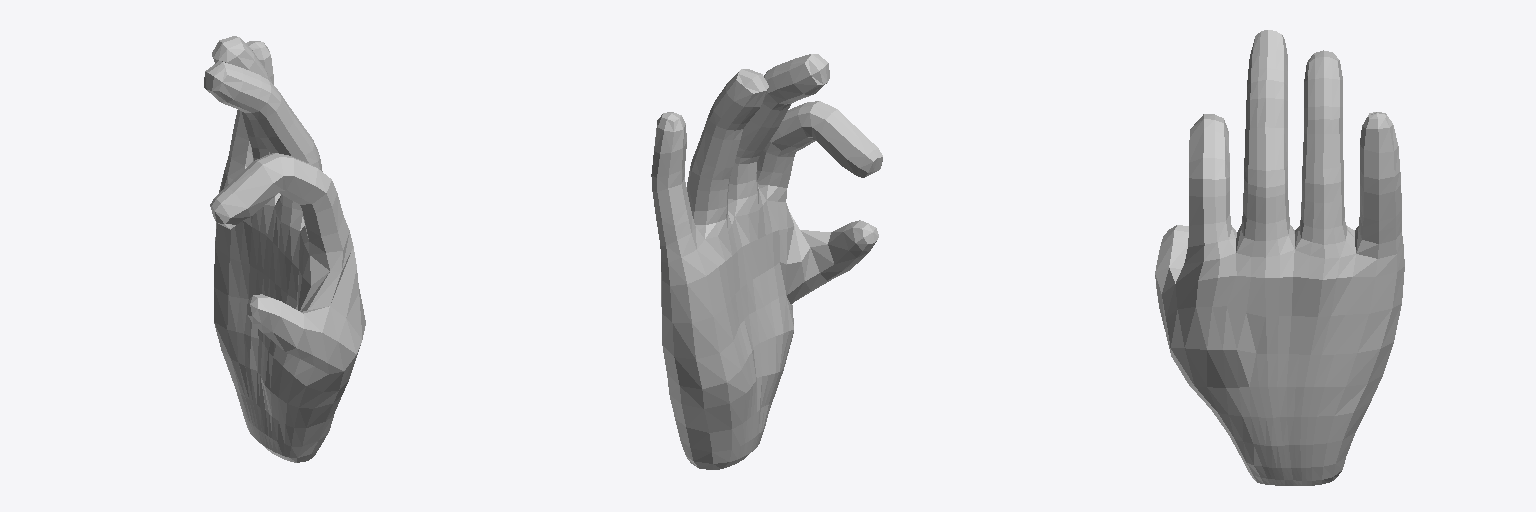
File: hand_2.obj
The picture shows the model from 3 angles: view 1: azimuth 30°, elevation 25°; view 2: azimuth 150°, elevation 25°; view 3: azimuth 270°, elevation 25°; orthographic projection.
Bounding box in the file's own units: 1.82 × 4.62 × 2.52.